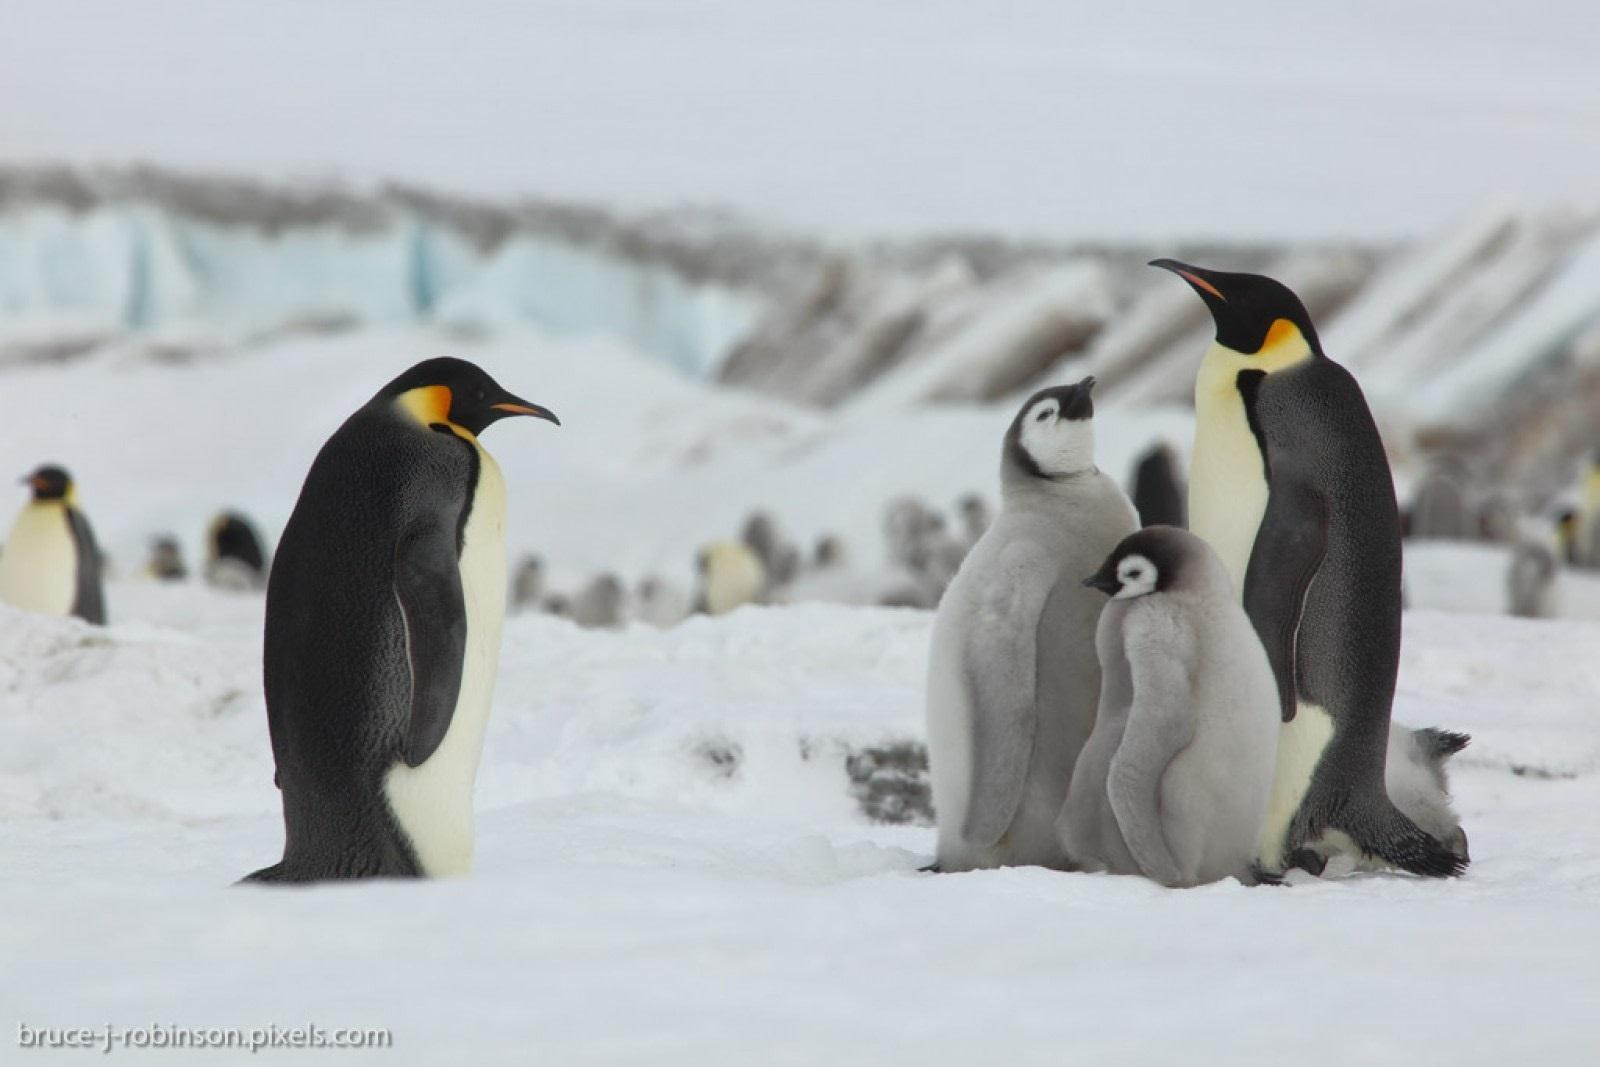emporer: (1106, 202, 1515, 926), (231, 313, 592, 905)
